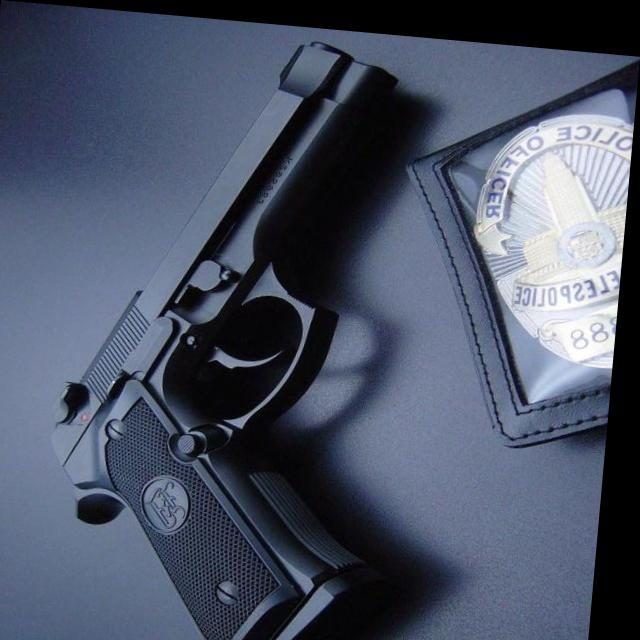handgun: (39, 20, 419, 640)
